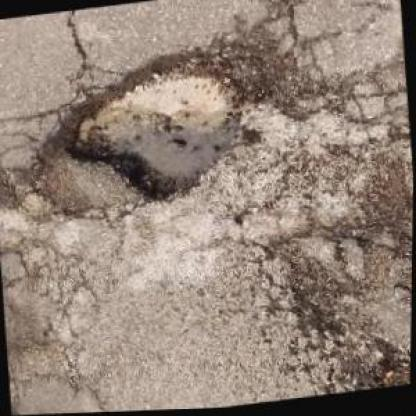pothole: (41, 38, 270, 219)
